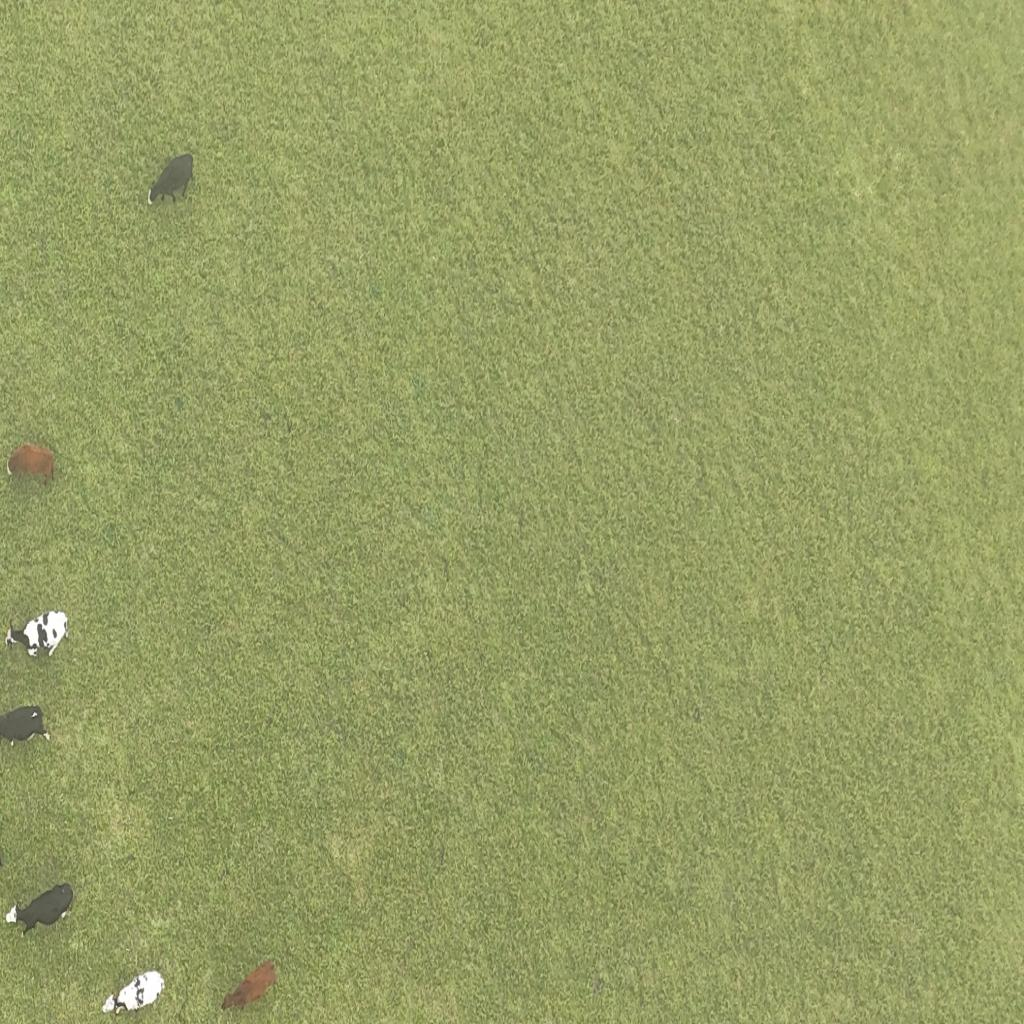cow: (4, 608, 69, 660), (221, 958, 277, 1014), (14, 882, 75, 933), (101, 969, 165, 1017), (0, 697, 54, 751), (3, 441, 60, 492), (145, 152, 195, 210)
